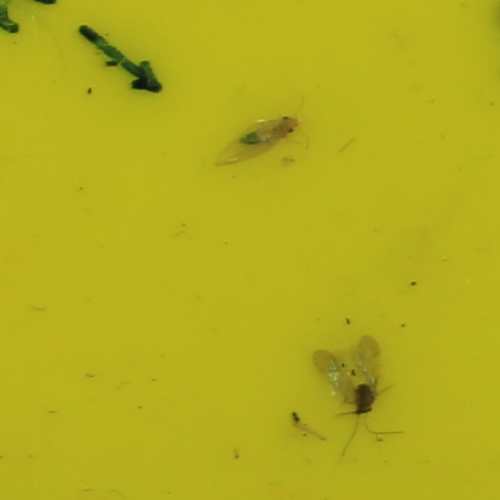Glycaspis: (239, 113, 301, 144)
